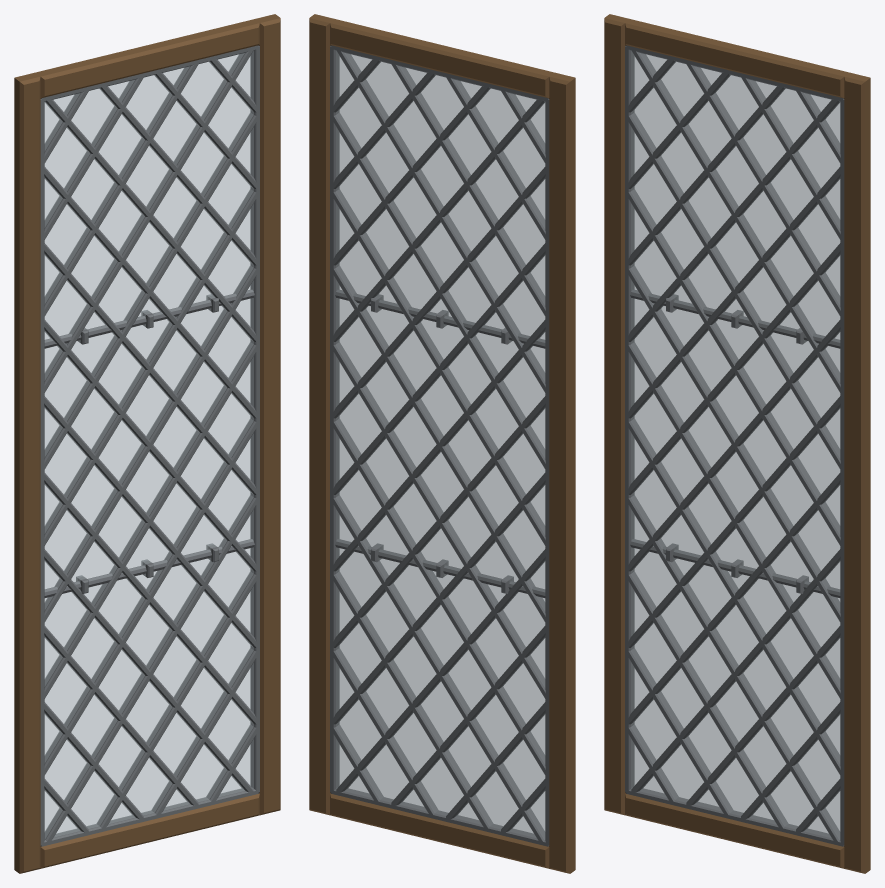
File: SM_LPD_Door_WindowPaneLeaded_01.fbx
The picture shows the model from 3 angles, left to right: view 1: azimuth 30°, elevation 25°; view 2: azimuth 150°, elevation 25°; view 3: azimuth 330°, elevation 25°; orthographic projection.
Visible parts, largest first — view 1: SM_LPD_Door_WindowPaneLeaded_01; view 2: SM_LPD_Door_WindowPaneLeaded_01; view 3: SM_LPD_Door_WindowPaneLeaded_01.
Part boxes in pixels (x1,y1,x2,y2): SM_LPD_Door_WindowPaneLeaded_01: (14,14,280,873); SM_LPD_Door_WindowPaneLeaded_01: (309,14,575,873); SM_LPD_Door_WindowPaneLeaded_01: (604,14,870,873).
Size of the model in its own units: 0.6 by 1.74 by 0.034.
